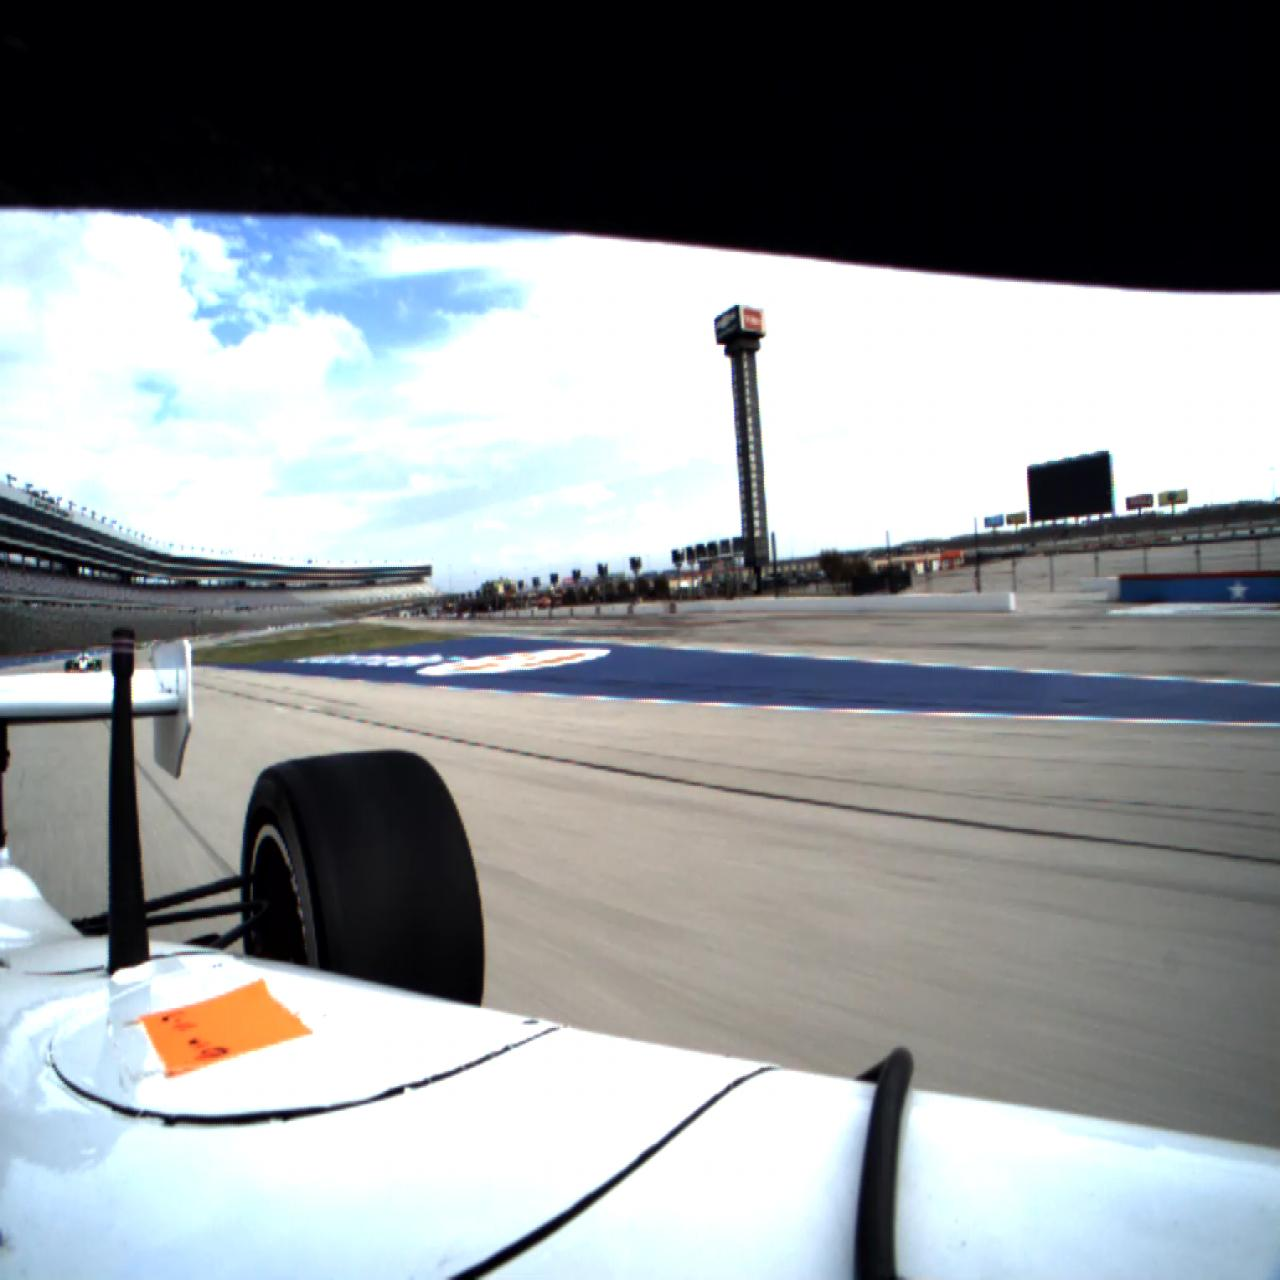AV: (64, 651, 102, 674)
Wheel: (241, 749, 485, 1009), (66, 661, 70, 673)
